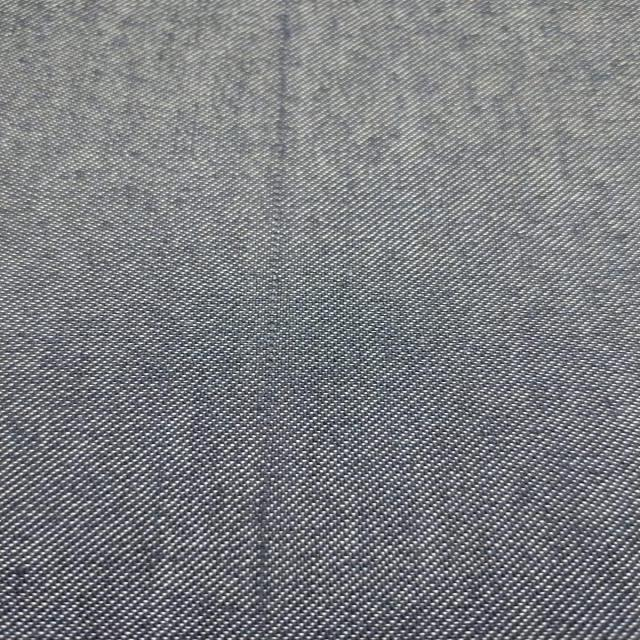Line: (251, 0, 290, 624)
